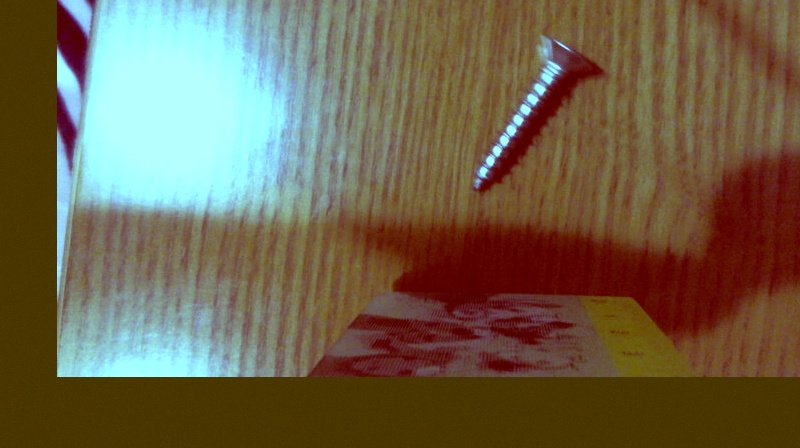S001: (469, 28, 610, 200)
